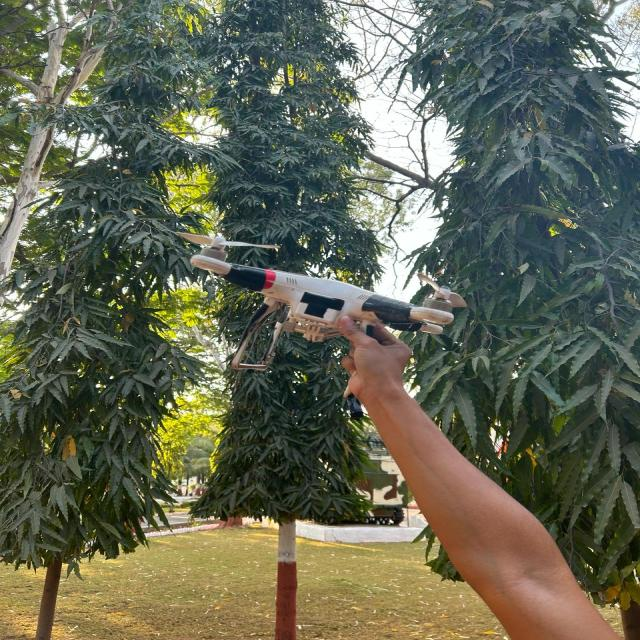drone: (150, 207, 502, 410)
